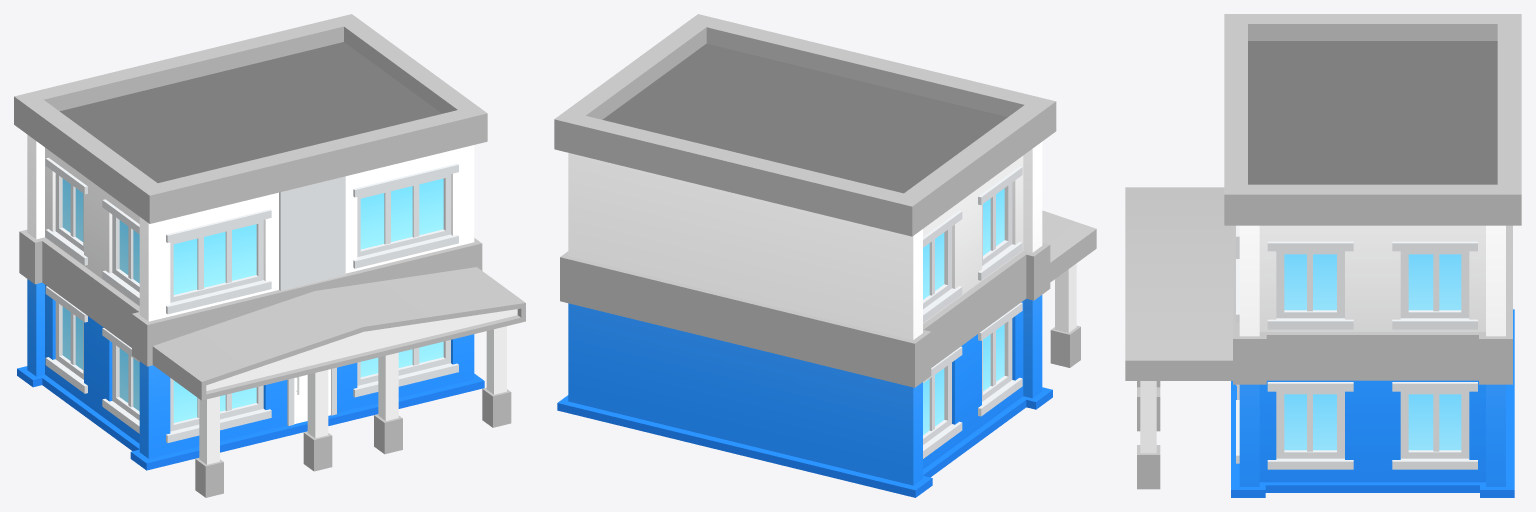
File: Building_Living_33.glb
3 renders of one model, left to right at view 1: azimuth 30°, elevation 25°; view 2: azimuth 150°, elevation 25°; view 3: azimuth 270°, elevation 25°, orthographic. The views are drawn at different scales.
Parts seen in each view (by area): view 1: Building_Living_33; view 2: Building_Living_33; view 3: Building_Living_33.
Boxes of the visible parts, x1=… form: Building_Living_33: x1=14, y1=14, x2=525, y2=497; Building_Living_33: x1=554, y1=14, x2=1096, y2=497; Building_Living_33: x1=1125, y1=14, x2=1521, y2=497.
Size of the model in its own units: 9.86 by 7.72 by 9.14.
1 material, 1 textured.
